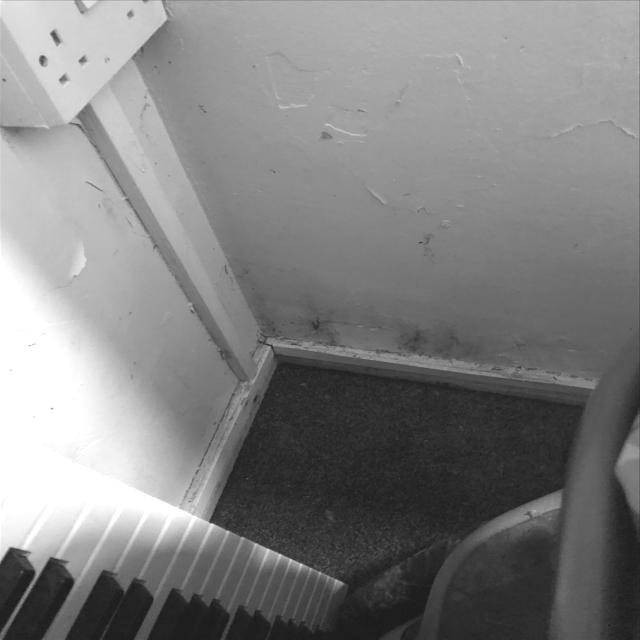peeling paint: (47, 229, 100, 290)
stain marks: (233, 271, 597, 384), (93, 300, 196, 439), (204, 330, 262, 512), (121, 48, 227, 146), (402, 226, 460, 288), (176, 446, 214, 520), (212, 250, 259, 298), (95, 188, 132, 248), (296, 122, 349, 156)
trowels marks: (251, 32, 640, 224)
